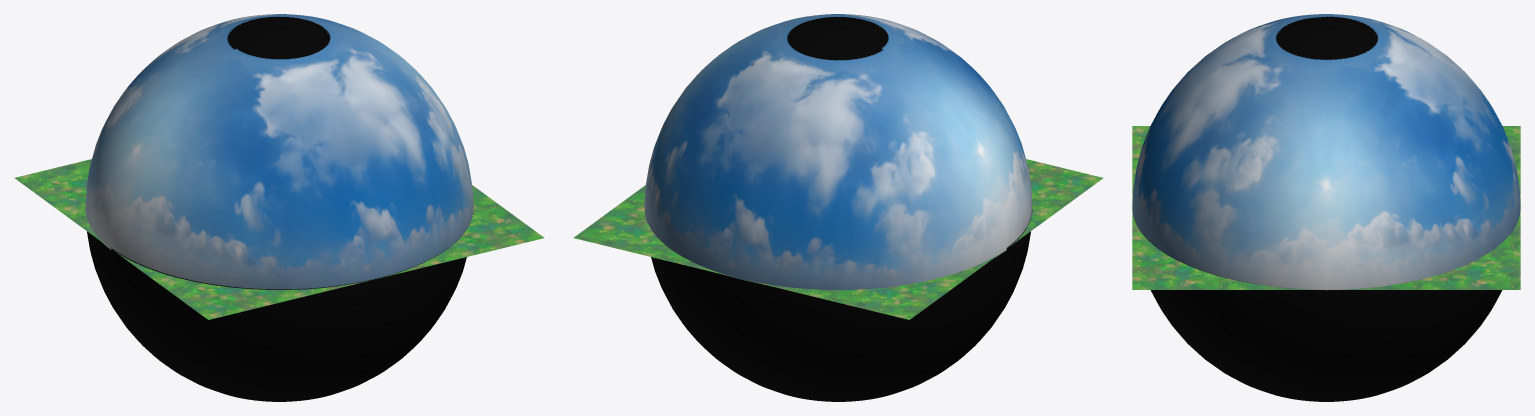
File: Grassland.glb
The picture shows the model from 3 angles, left to right: view 1: azimuth 30°, elevation 25°; view 2: azimuth 150°, elevation 25°; view 3: azimuth 270°, elevation 25°; orthographic projection.
Visible parts, largest first — view 1: Sphere, Plane.001; view 2: Sphere, Plane.001; view 3: Sphere, Plane.001.
Part boxes in pixels (x1,y1,x2,y2): Sphere: (85,14,473,401); Plane.001: (14,159,544,319); Sphere: (644,14,1032,401); Plane.001: (573,159,1103,319); Sphere: (1132,14,1520,401); Plane.001: (1132,126,1520,289).
Bounding box in the file's own units: 25 × 25 × 25.
Materials: 2 (2 with a texture image).
